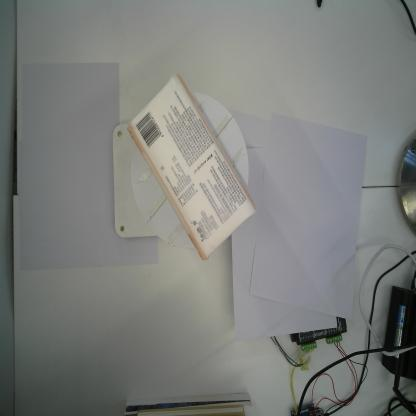Tissue: (126, 72, 257, 262)
